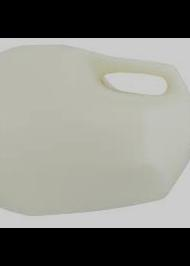Plastic: (0, 45, 189, 221)
